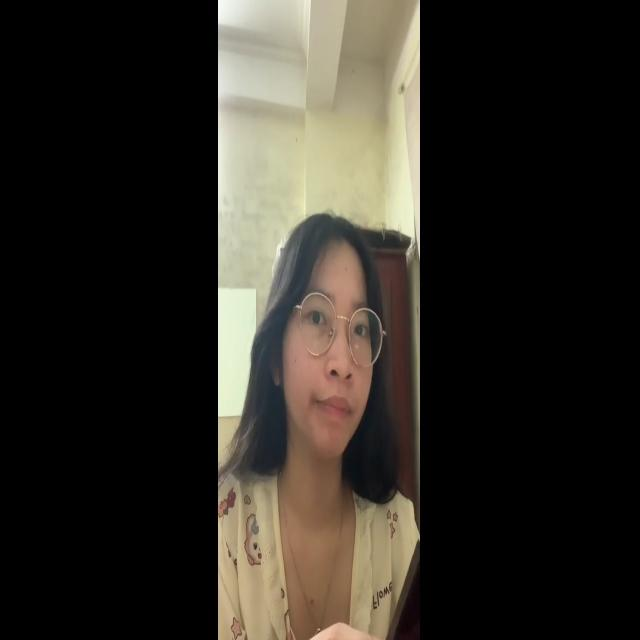student: (253, 209, 390, 630)
